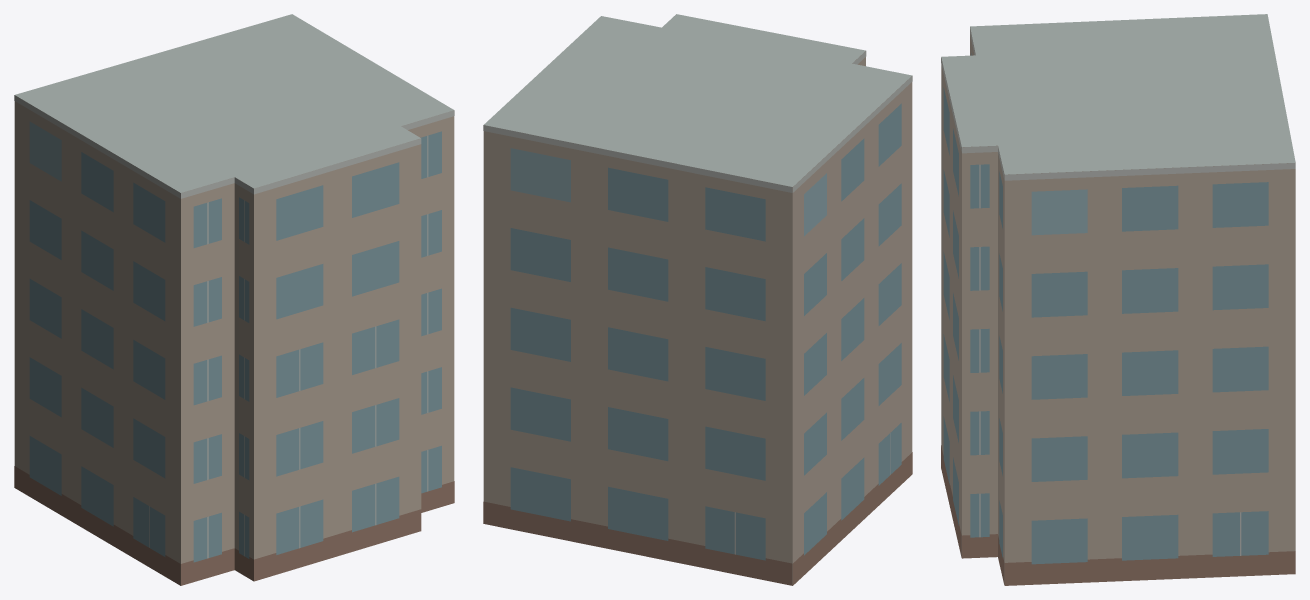
Rendered from survey-upis-33025478.glb.
3 renders of one model, left to right at view 1: azimuth 30°, elevation 25°; view 2: azimuth 150°, elevation 25°; view 3: azimuth 270°, elevation 25°, orthographic. The views are drawn at different scales.
Parts seen in each view (by area): view 1: survey-upis-33025478.tmp; view 2: survey-upis-33025478.tmp; view 3: survey-upis-33025478.tmp.
Boxes of the visible parts, x1=… form: survey-upis-33025478.tmp: x1=14, y1=14, x2=454, y2=585; survey-upis-33025478.tmp: x1=483, y1=14, x2=912, y2=585; survey-upis-33025478.tmp: x1=941, y1=14, x2=1295, y2=585.
Bounding box in the file's own units: 13.58 × 16.2 × 12.67.
